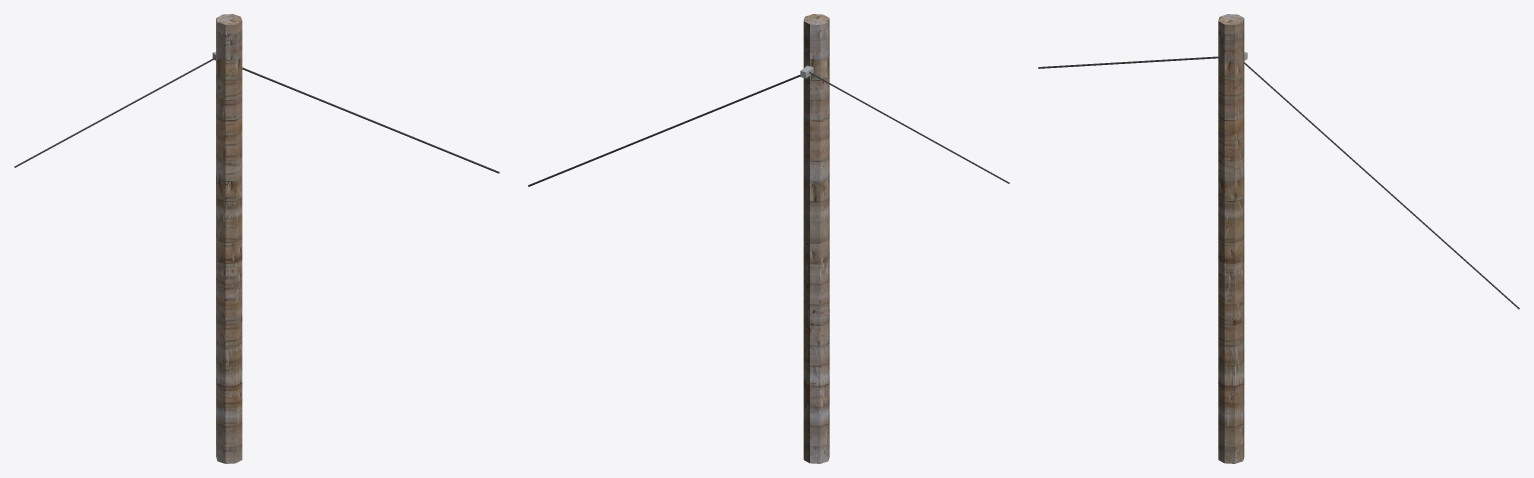
Rendered from world01_generator_wire.glb.
3 renders of one model, left to right at view 1: azimuth 30°, elevation 25°; view 2: azimuth 150°, elevation 25°; view 3: azimuth 330°, elevation 25°, orthographic.
Visible parts, largest first — view 1: Prop.world01_generator_wire; view 2: Prop.world01_generator_wire; view 3: Prop.world01_generator_wire.
Part boxes in pixels (x1=…): Prop.world01_generator_wire: x1=14, y1=14, x2=499, y2=463; Prop.world01_generator_wire: x1=528, y1=14, x2=1009, y2=463; Prop.world01_generator_wire: x1=1038, y1=14, x2=1519, y2=463.
Bounding box in the file's own units: 4.94 × 4.28 × 0.359.
Materials: 3 (2 with a texture image).
